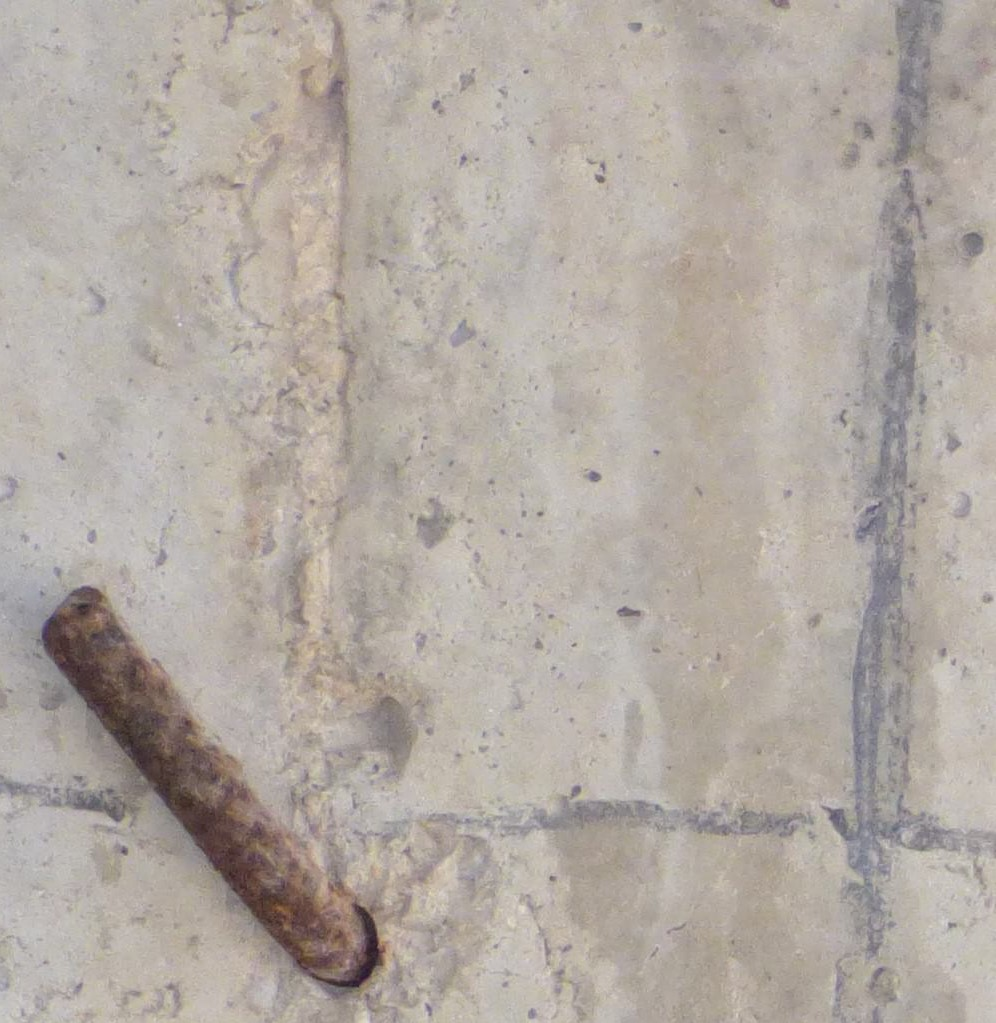Exposed reinforcement: (41, 585, 369, 984)
